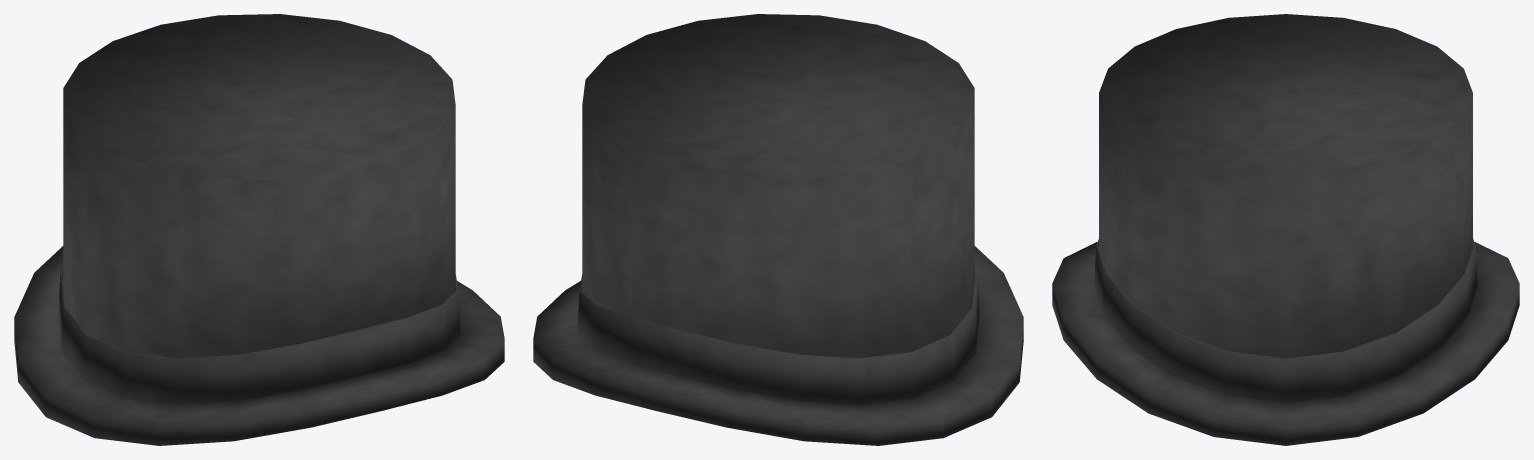
The model's file is HautDeForme.fbx.
3 views of the same model, side by side, from view 1: azimuth 30°, elevation 25°; view 2: azimuth 150°, elevation 25°; view 3: azimuth 270°, elevation 25° (orthographic). The views are drawn at different scales.
Parts seen in each view (by area): view 1: Hat, Ruban; view 2: Hat, Ruban; view 3: Hat, Ruban.
Boxes of the visible parts, box(x1,y1,x2,y2) form: Hat: box(14, 14, 504, 445); Ruban: box(58, 267, 460, 404); Hat: box(533, 14, 1023, 445); Ruban: box(577, 267, 979, 404); Hat: box(1052, 14, 1519, 445); Ruban: box(1094, 239, 1477, 402).
Bounding box in the file's own units: 200 × 120 × 200.
2 materials, 2 textured.
